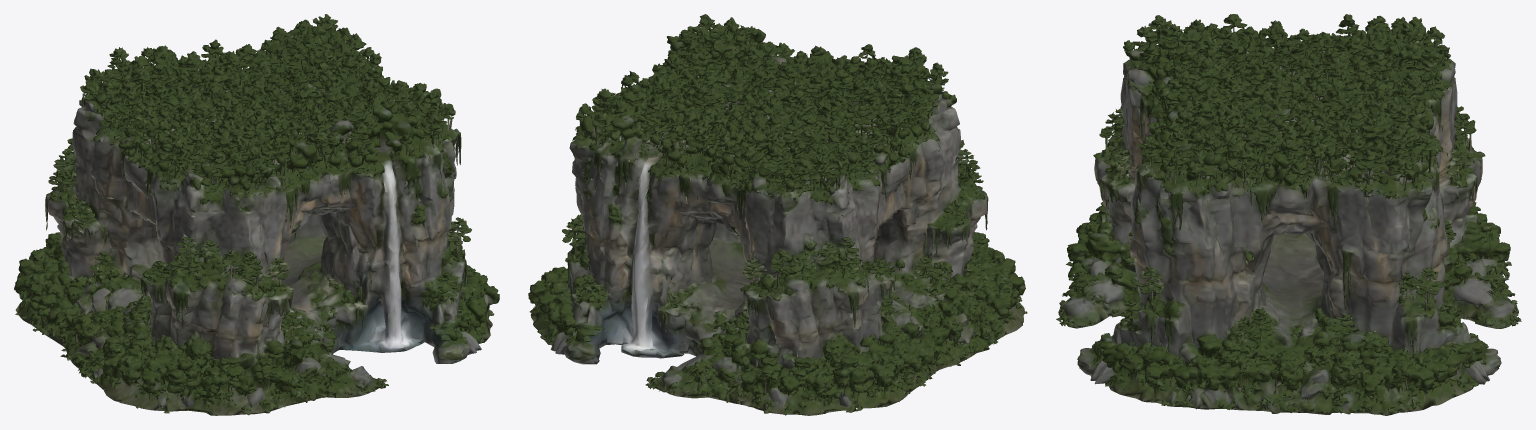
Rendered from av_fallsgate.glb.
3 views of the same model, side by side, from view 1: azimuth 30°, elevation 25°; view 2: azimuth 150°, elevation 25°; view 3: azimuth 270°, elevation 25° (orthographic). The views are drawn at different scales.
Parts seen in each view (by area): view 1: av_fallsgate; view 2: av_fallsgate; view 3: av_fallsgate.
Boxes of the visible parts, x1,y1,x2,y2 form: av_fallsgate: (14,14,499,415); av_fallsgate: (528,14,1027,415); av_fallsgate: (1056,14,1521,415).
Bounding box in the file's own units: 1.91 × 1.12 × 1.84.
Materials: 1 (1 with a texture image).
